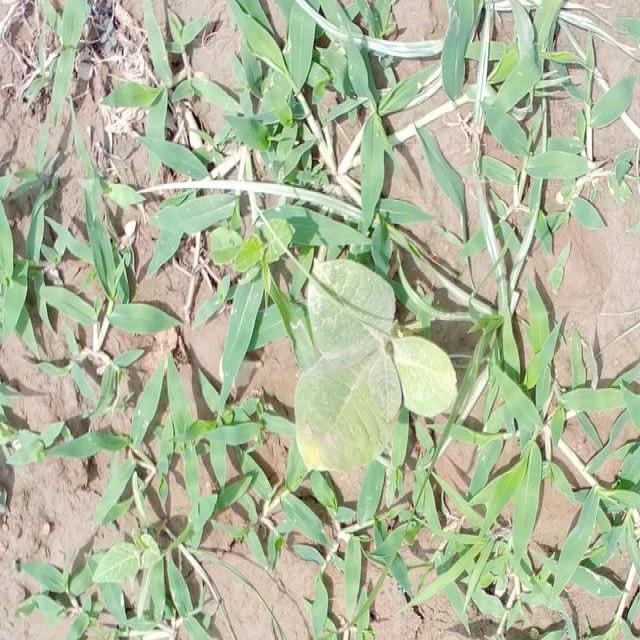crop: (290, 255, 458, 473)
